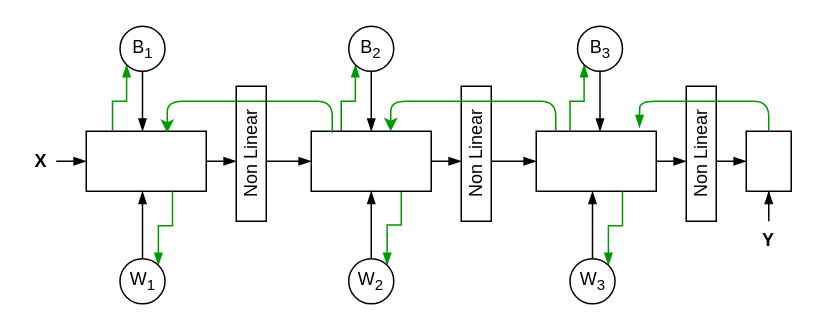
Some shapes in this 818 by 330 pixel diagram are drawn without their labels. Each missing label, with the centre of its shape:
Linear (L 1 ): point 145,160
Linear (L 2 ): point 370,160
Linear (L 3 ): point 595,160
Loss: point 768,160
